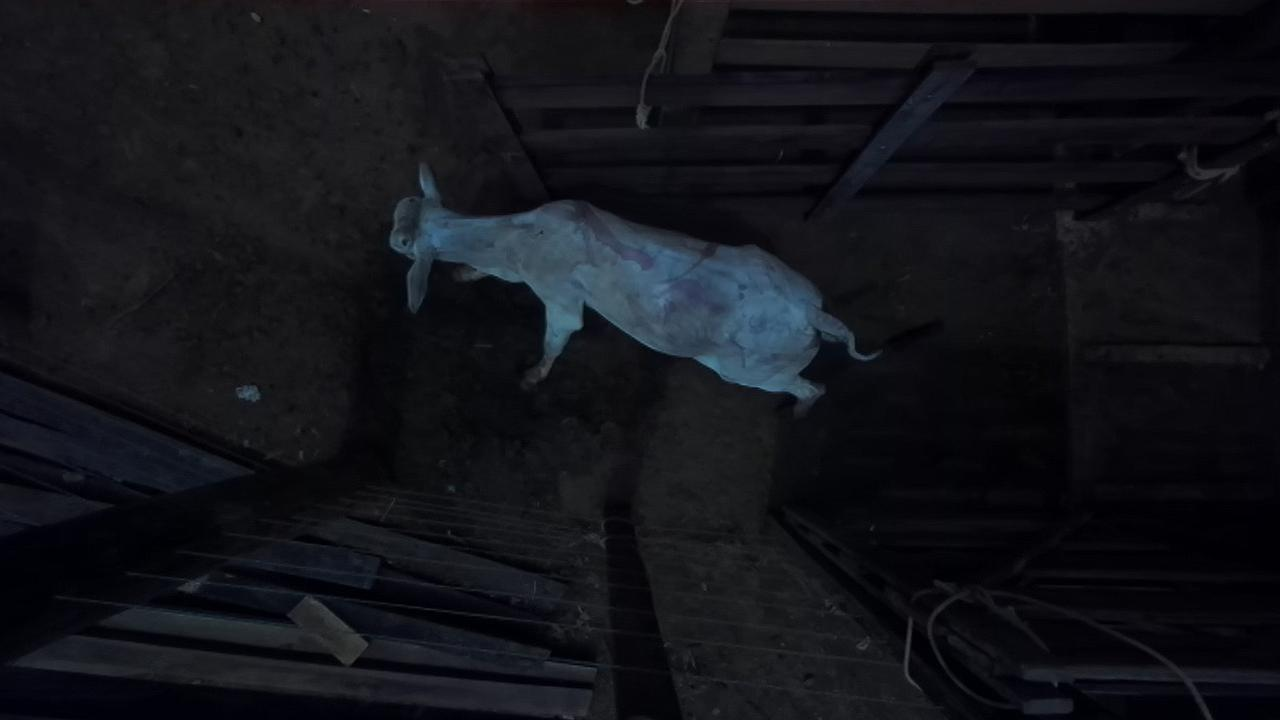cattle: (387, 160, 884, 418)
